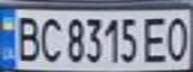1: (103, 15, 121, 63)
3: (81, 15, 106, 64)
5: (118, 15, 142, 64)
8: (63, 15, 84, 63)
B: (9, 12, 42, 62)
C: (36, 14, 63, 63)
E: (139, 12, 172, 64)
O: (163, 12, 193, 63)
